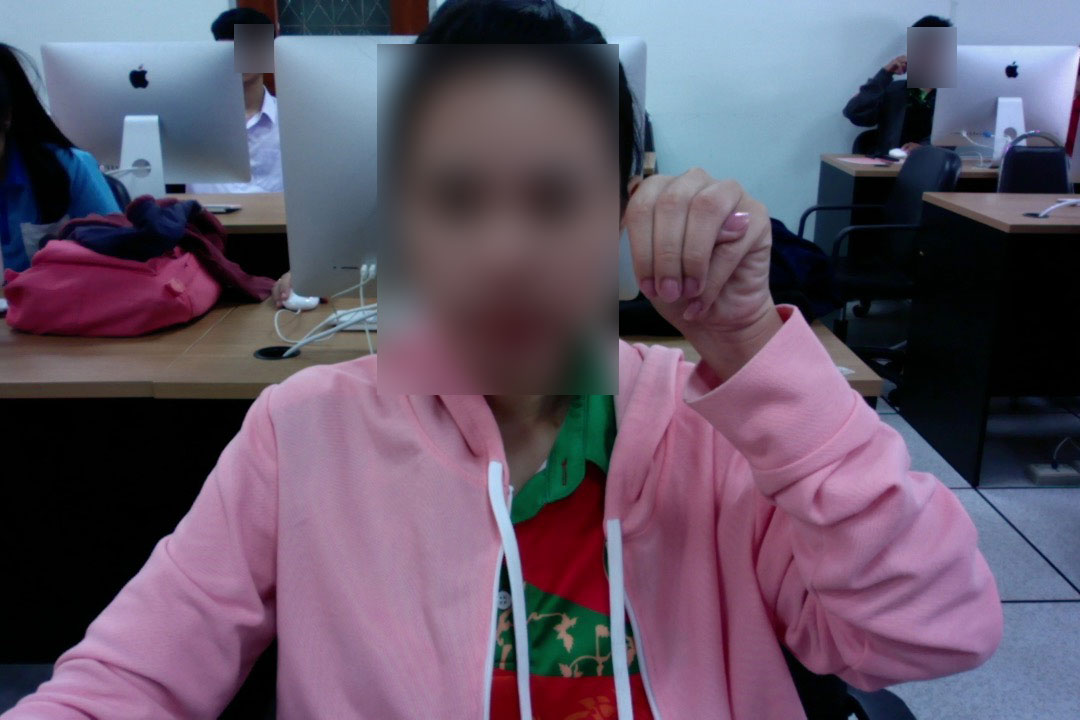mor: (620, 165, 777, 358)
